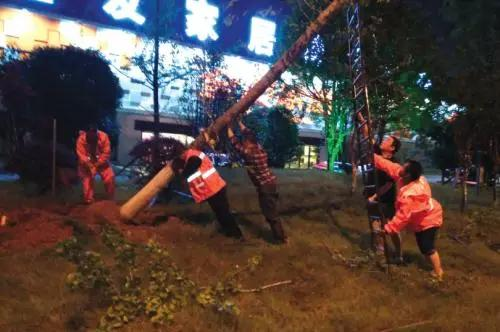Downstairs: (116, 1, 356, 224)
